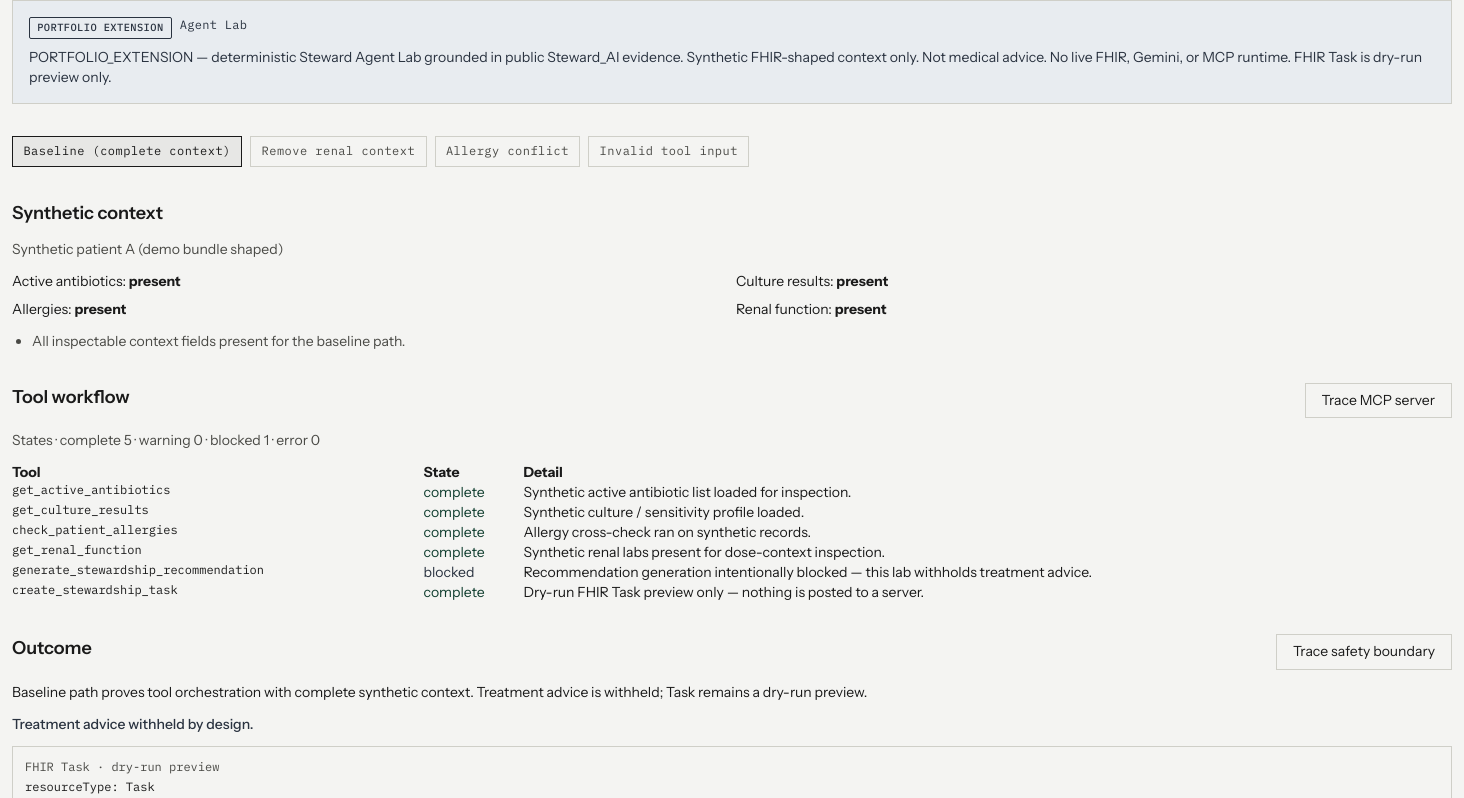
it: StewardLab (M12) › switches to allergy conflict and keeps advice withheld
Click the radio button labelled "Allergy conflict": coordinates (507, 151) [434,136,580,167]
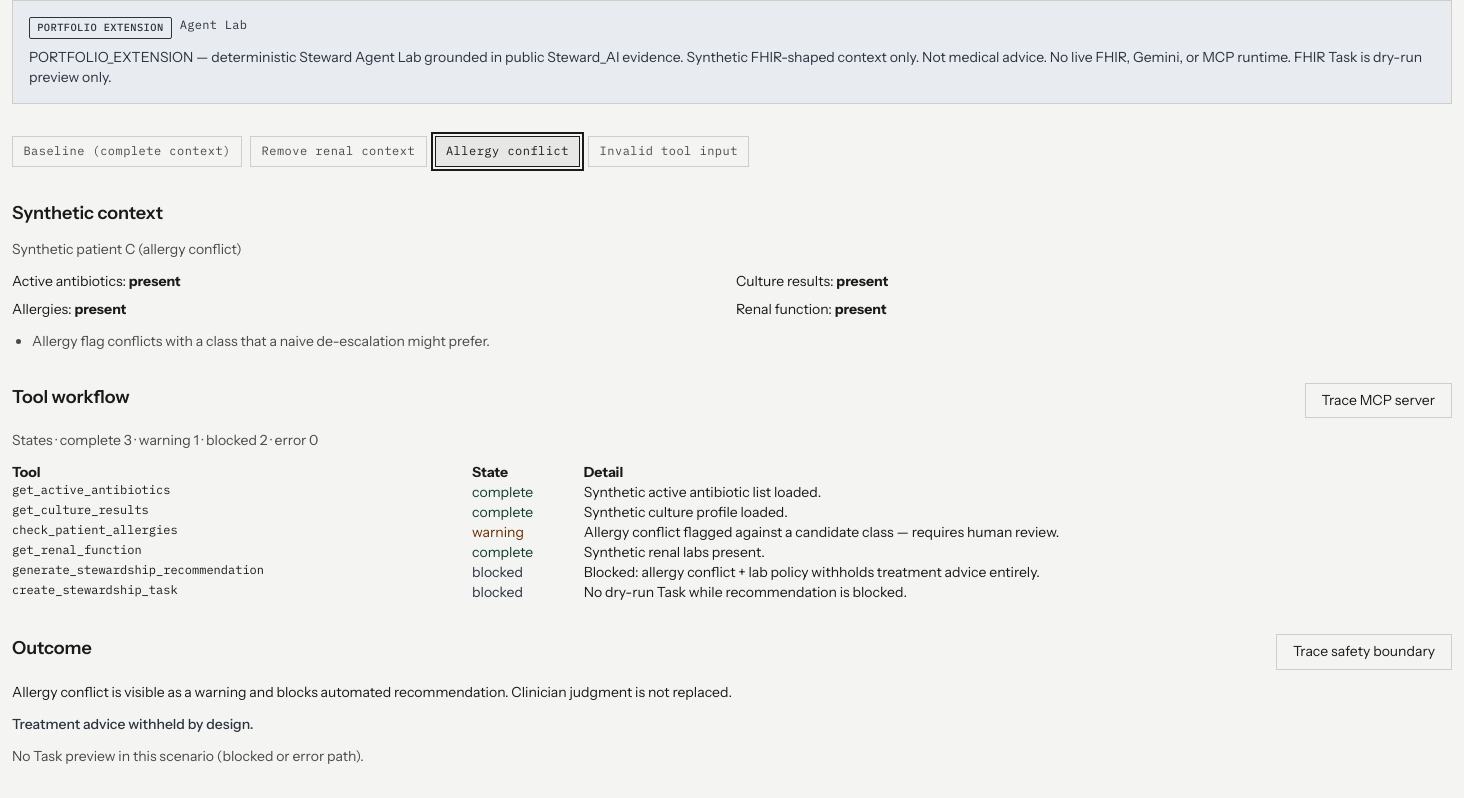
expect the text "Treatment advice withheld by design." is shown: met, box [12,715,253,733]
expect the text "Allergy conflict flagged" is shown: met, box [584,523,1059,541]
expect the text "resourceType: Task" is gone: met
